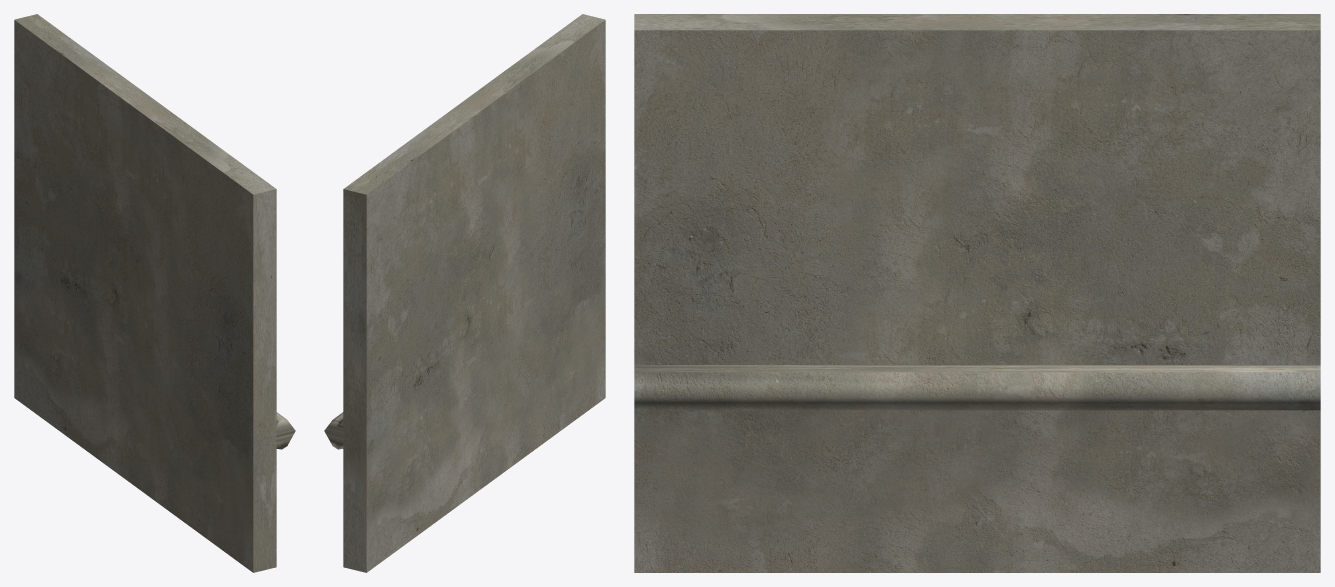
Rendered from Mesh_Static_Pared02_0.fbx.
3 views of the same model, side by side, from view 1: azimuth 30°, elevation 25°; view 2: azimuth 150°, elevation 25°; view 3: azimuth 270°, elevation 25° (orthographic). The views are drawn at different scales.
Visible parts, largest first — view 1: cuadroesquina.003; view 2: cuadroesquina.003; view 3: cuadroesquina.003.
Part boxes in pixels (<box>): cuadroesquina.003: <box>14,14,295,572</box>; cuadroesquina.003: <box>324,14,605,572</box>; cuadroesquina.003: <box>634,14,1320,572</box>.
Bounding box in the file's own units: 68.11 × 580 × 664.
